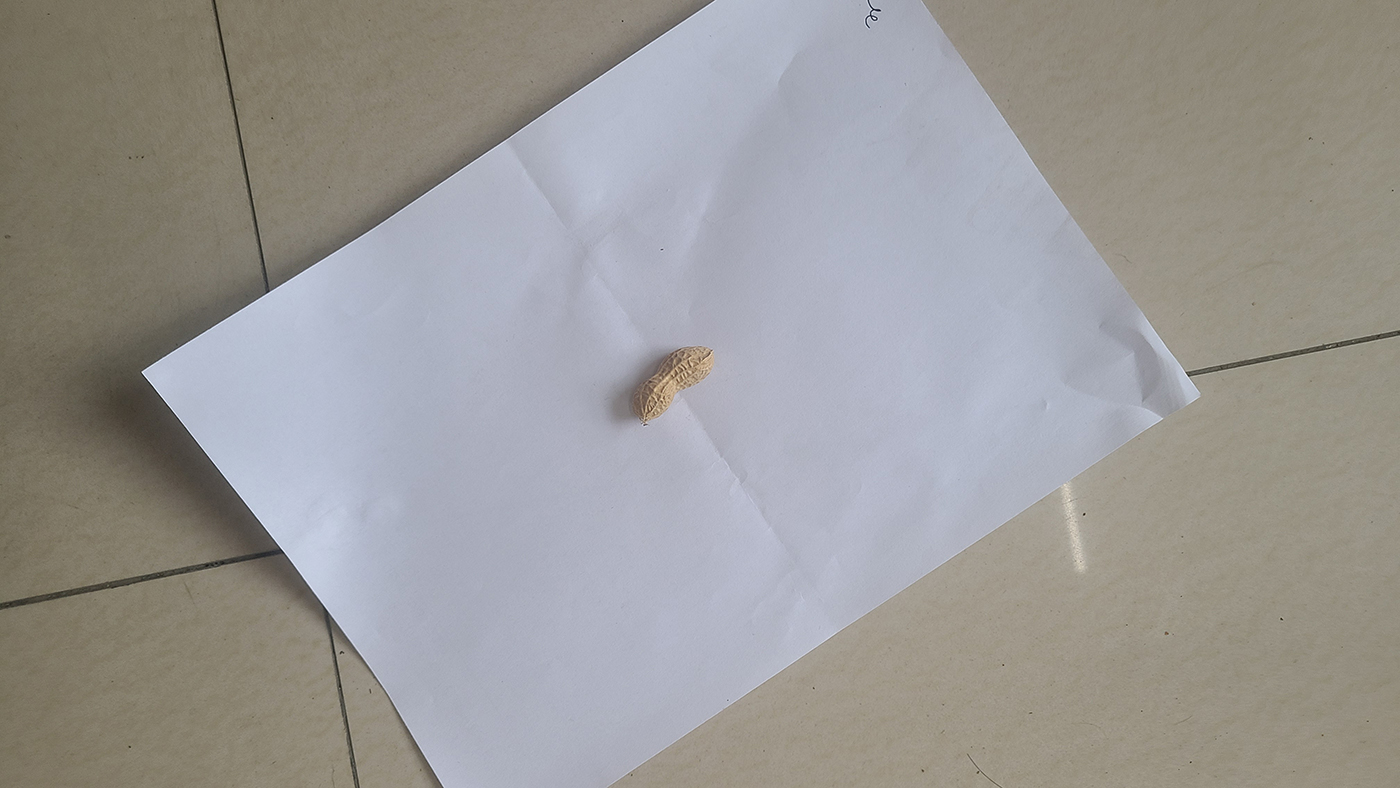h: (629, 345, 716, 425)
